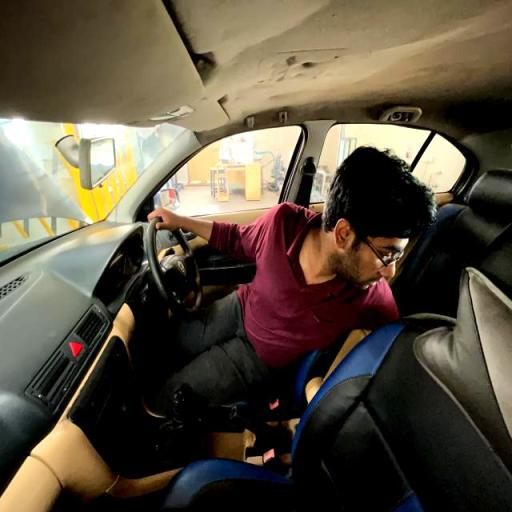Reaching_behind: (152, 142, 440, 372)
